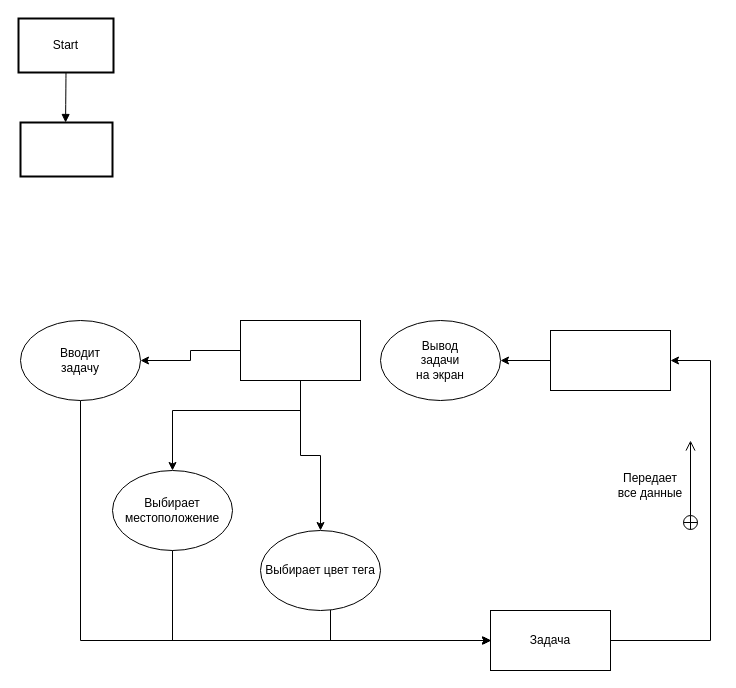
Some shapes in this 736 by 688 pixel diagram are drawn without their labels. Each missing label, with the centre of its shape:
"Stop" goes at point (66, 149).
"Програма" goes at point (610, 360).
"Человек" goes at point (300, 350).
